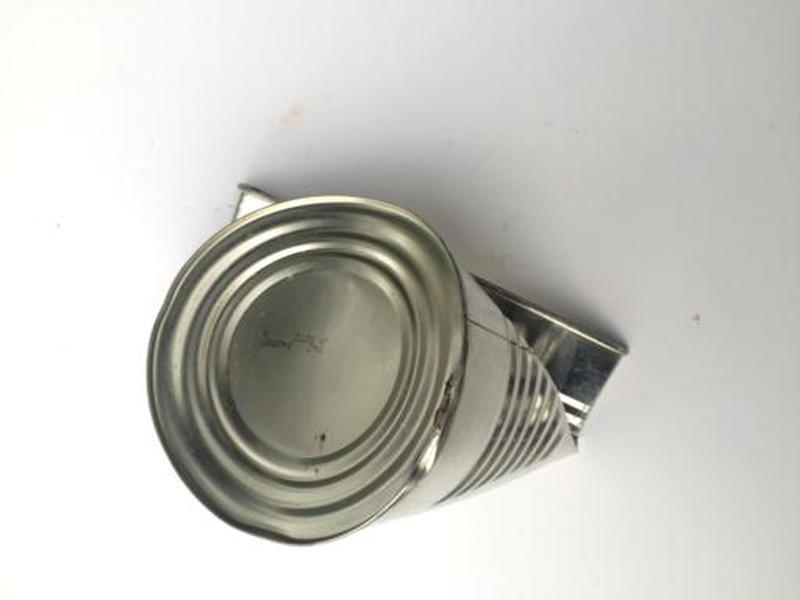can: (137, 165, 638, 552)
